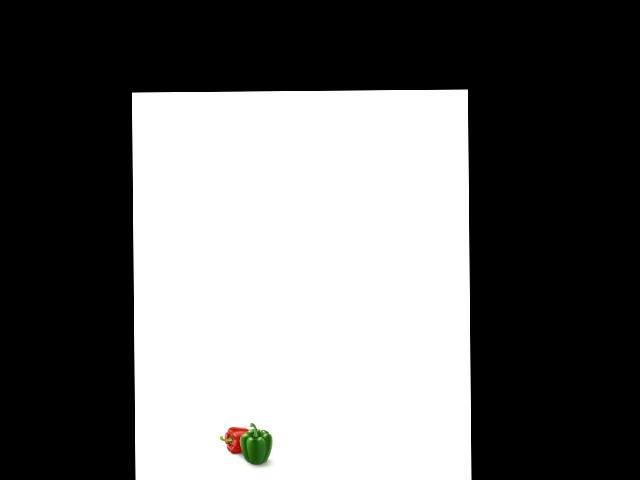bell_pepper: (220, 423, 250, 453)
